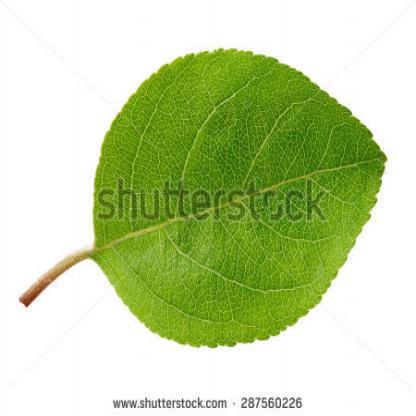apple leaf: (88, 46, 400, 362)
